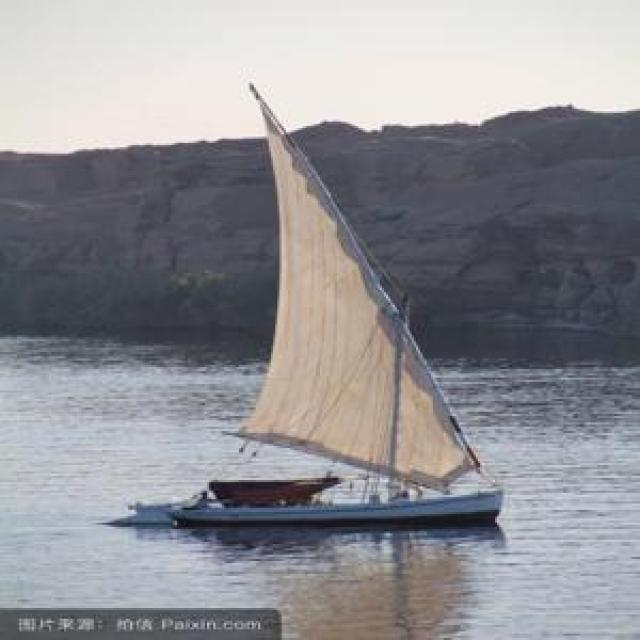sailboat: (164, 79, 502, 525)
